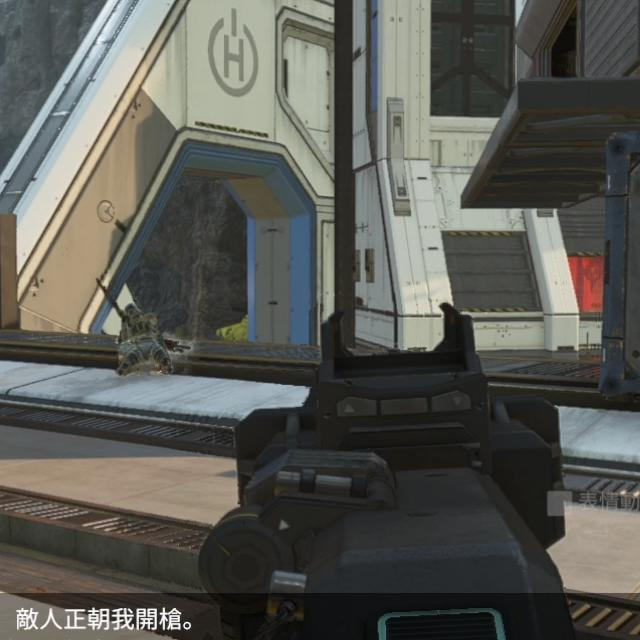avatar: (115, 302, 178, 379)
